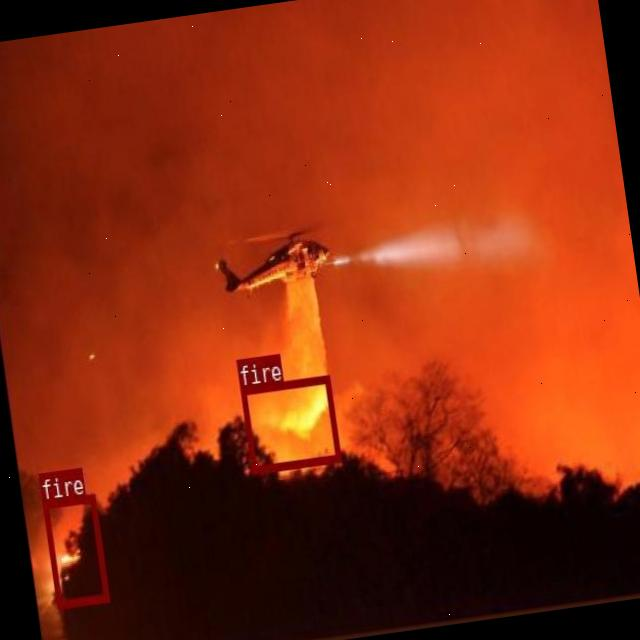fire: (240, 374, 340, 473), (42, 494, 108, 608)
